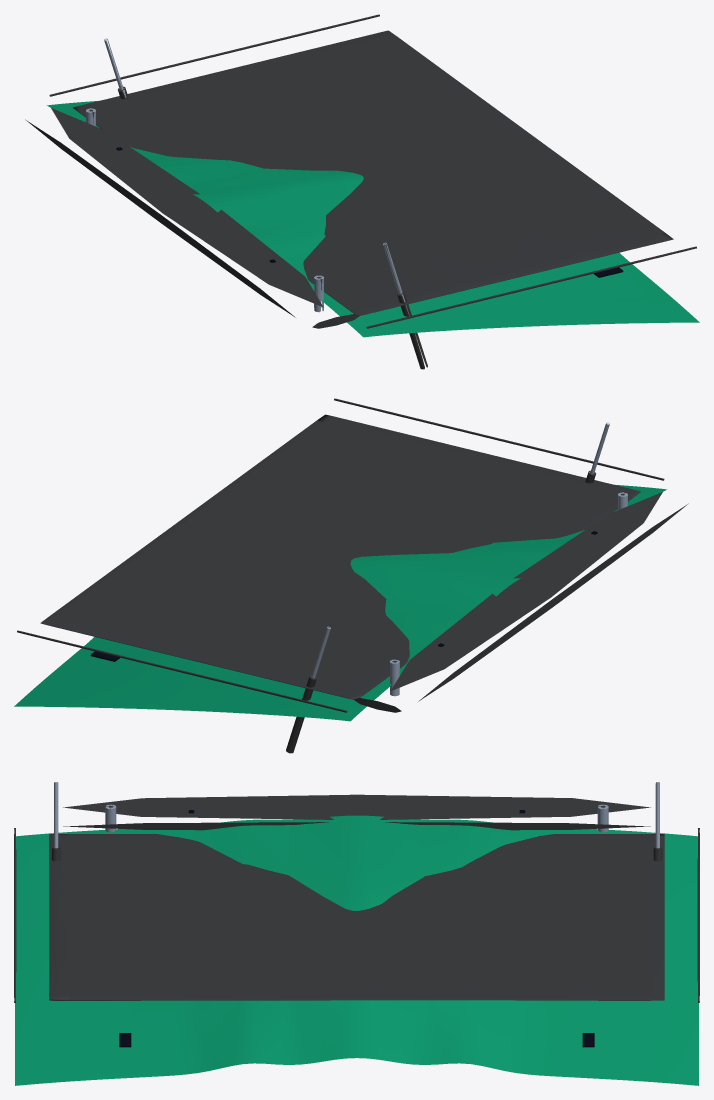
File: ford_escort_rs_cosworth_hood_closed.glb
3 renders of one model, top to bottom at view 1: azimuth 30°, elevation 25°; view 2: azimuth 150°, elevation 25°; view 3: azimuth 270°, elevation 25°, orthographic. The views are drawn at different scales.
Visible parts, largest first — view 1: Block04_ProductionSculptedHood; view 2: Block04_ProductionSculptedHood; view 3: Block04_ProductionSculptedHood.
Boxes of the visible parts, box(x1,y1,x2,y2) form: Block04_ProductionSculptedHood: box(25, 14, 699, 369); Block04_ProductionSculptedHood: box(14, 398, 688, 753); Block04_ProductionSculptedHood: box(14, 782, 699, 1085).
Bounding box in the file's own units: 0.86 × 0.2967 × 1.24.
